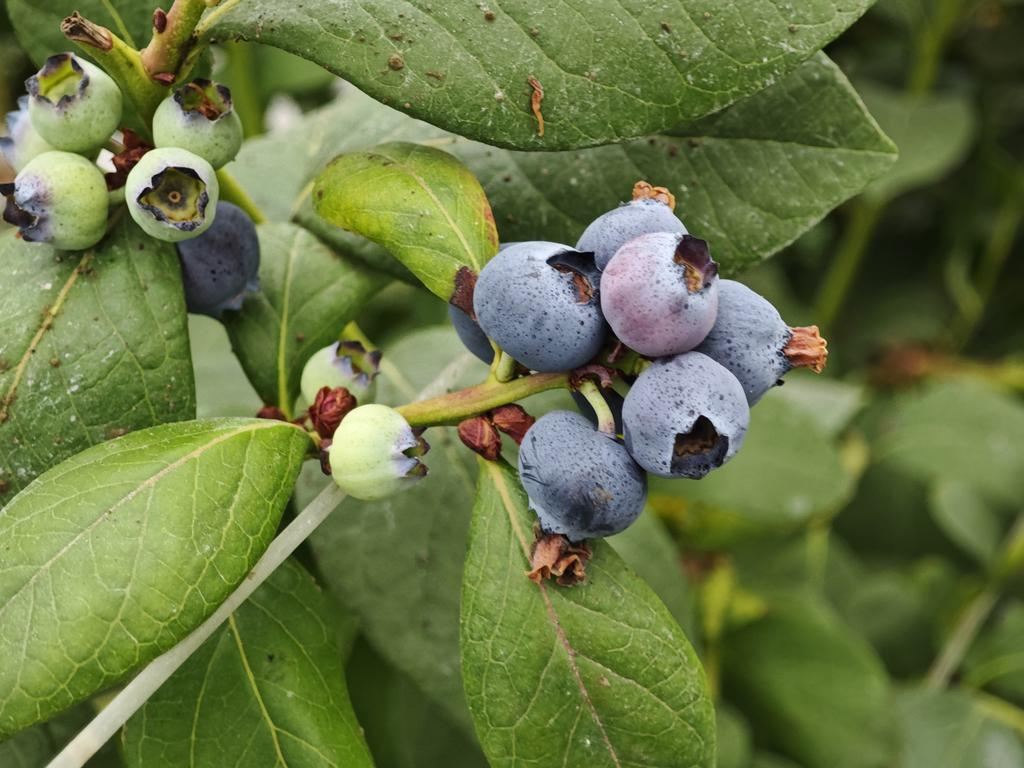RipeBlueBerry: (472, 234, 608, 371), (623, 350, 751, 483), (517, 416, 643, 547)
Semi-RipeBlueBerry: (603, 231, 726, 352)
UnripeBlueBerry: (328, 406, 431, 499), (12, 153, 114, 244), (127, 149, 220, 238)
